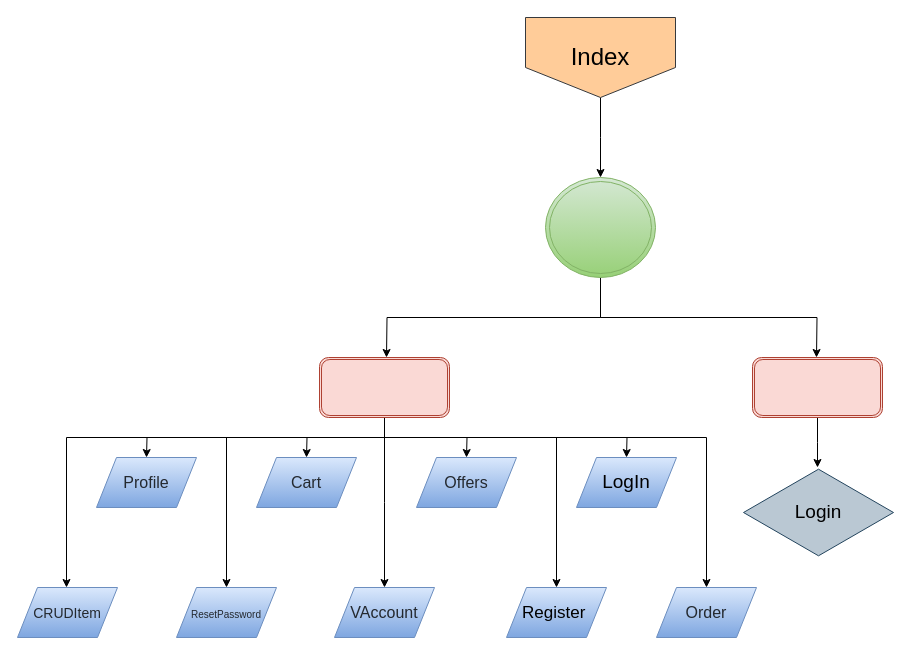
The diagram is 911 pixels wide and 655 high, and some of its shapes have lost their labels. Here are the shapes that lost their labels. From the top down, the box of each, then its label:
(544, 176, 656, 278): App
(318, 356, 450, 418): Components
(752, 356, 882, 418): Redux
